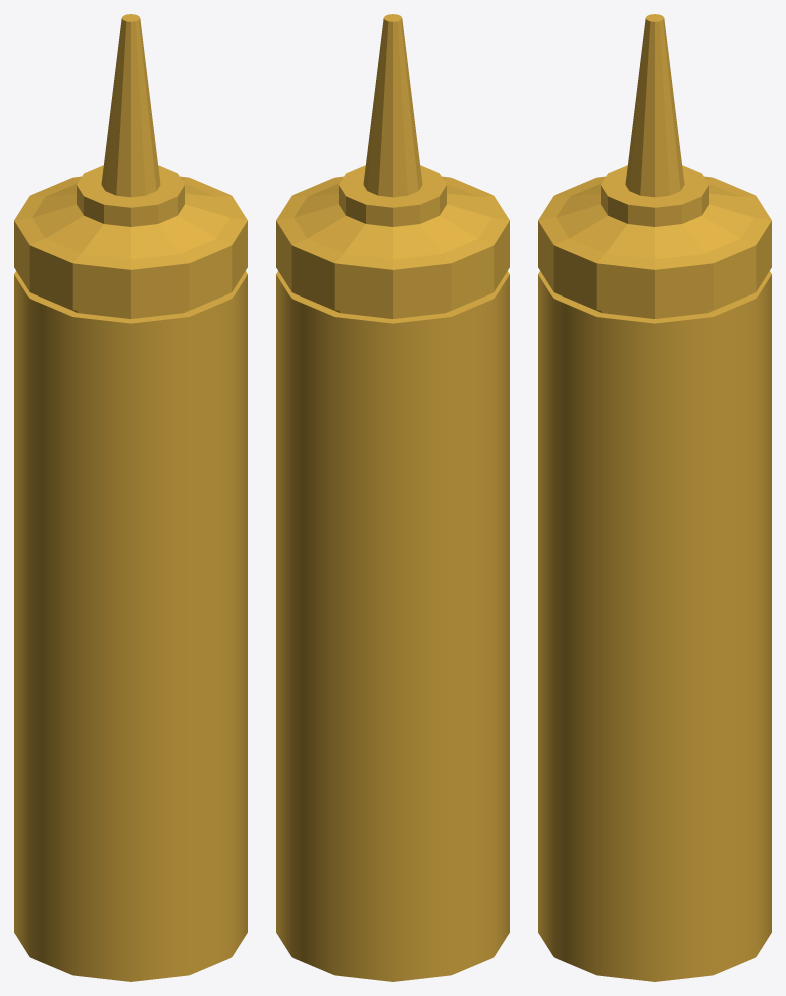
File: SM_mustard.fbx
3 renders of one model, left to right at view 1: azimuth 30°, elevation 25°; view 2: azimuth 150°, elevation 25°; view 3: azimuth 270°, elevation 25°, orthographic.
Parts seen in each view (by area): view 1: mustard; view 2: mustard; view 3: mustard.
Boxes of the visible parts, x1,y1,x2,y2 form: mustard: (14,14,247,981); mustard: (276,14,509,981); mustard: (538,14,771,981).
Size of the model in its own units: 12.88 by 55.53 by 12.88.
